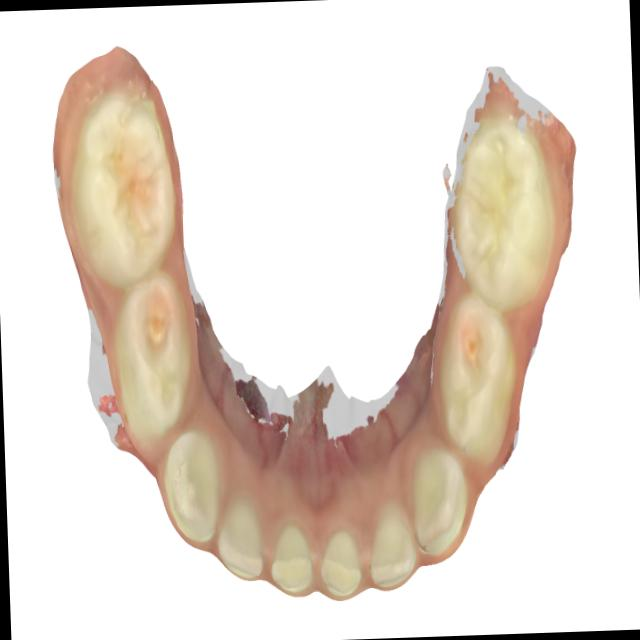tooth: (438, 86, 561, 310), (60, 70, 182, 293), (99, 266, 202, 458), (428, 278, 525, 472), (158, 401, 222, 584), (405, 439, 481, 564), (213, 470, 269, 601), (360, 491, 422, 599), (314, 514, 370, 606), (267, 508, 317, 606)
